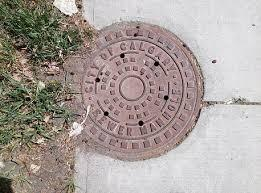closed manhole-not overflowing-: (65, 25, 211, 164)
